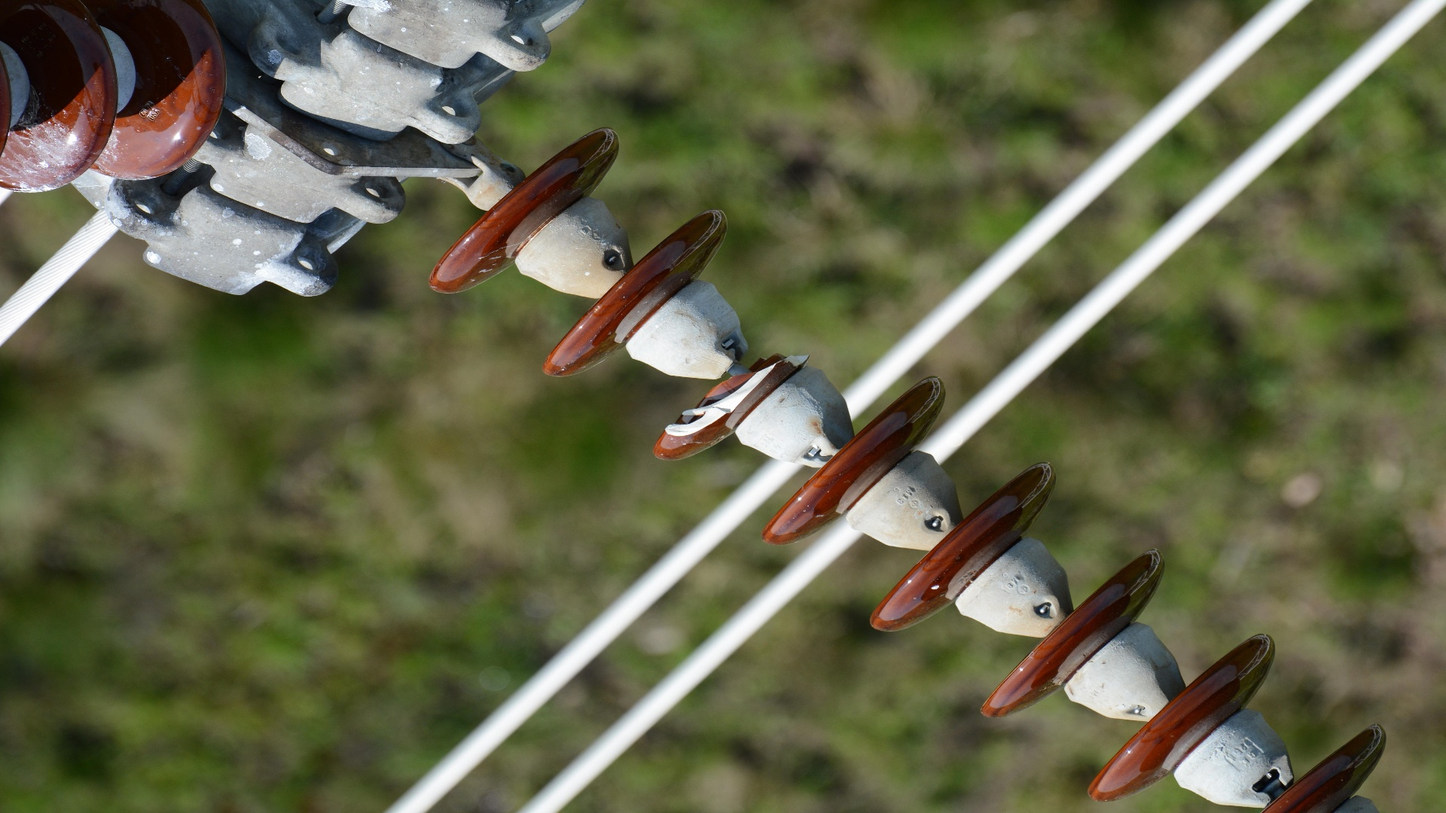insulator: (421, 123, 1396, 813), (1, 1, 234, 200)
insulator_breakage: (660, 349, 813, 443)
